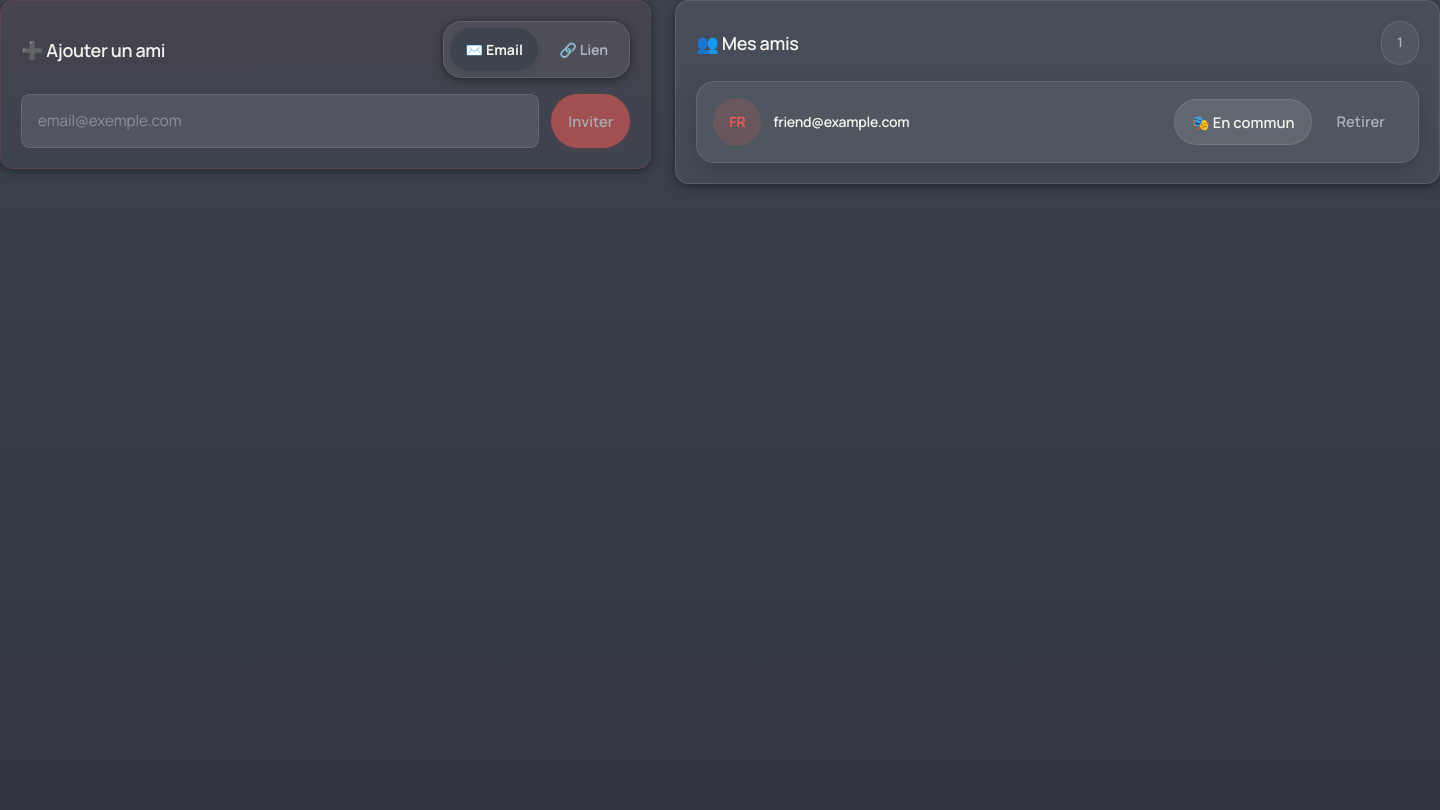
Test: FriendsClient › loads common works inline for a selected friend
Click the button "🎭 En commun" at (1243, 122), box top-left (1174, 99), bottom-right (1312, 145)
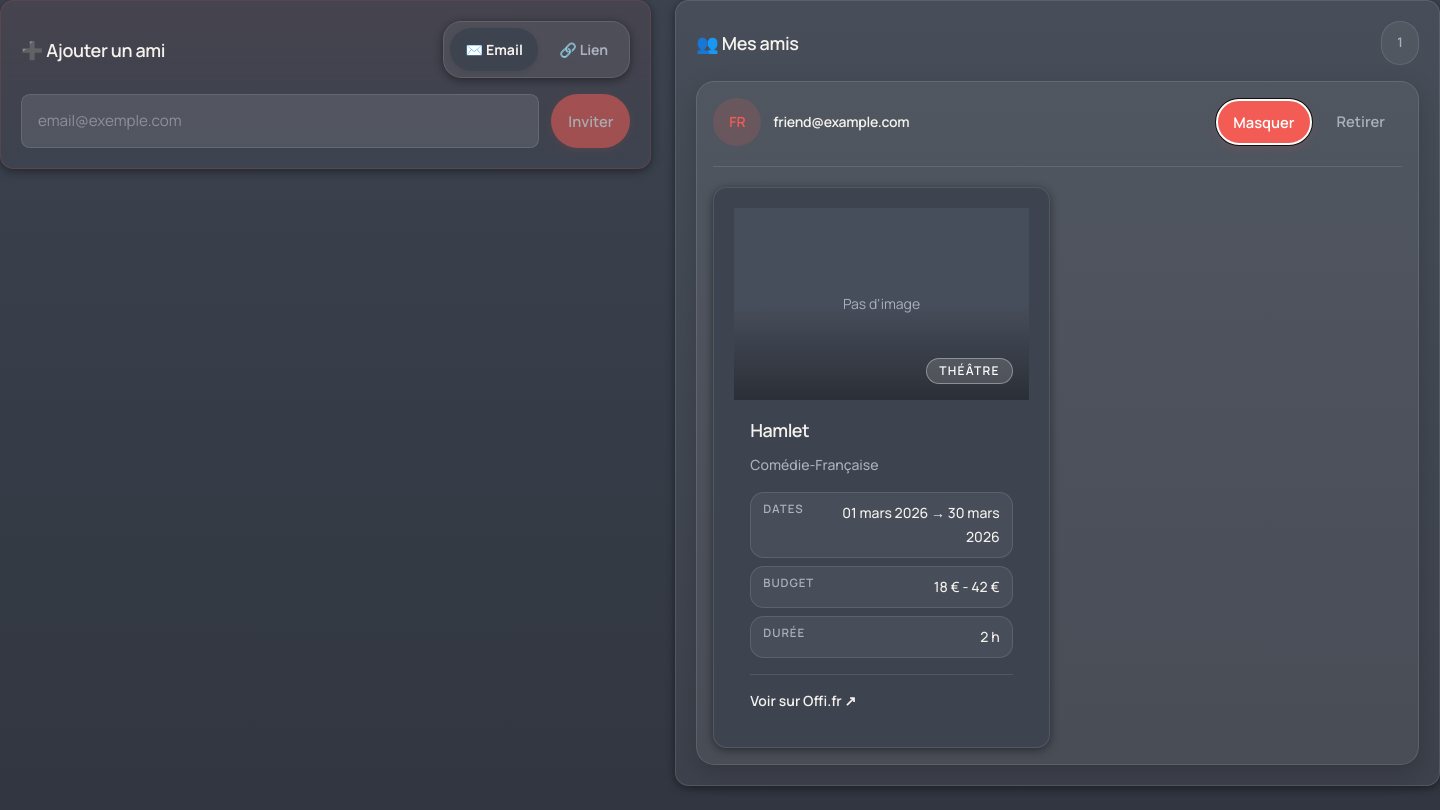
Check: the heading "Hamlet" is shown, box top-left (750, 418), bottom-right (809, 442)
Check: the text "Comédie-Française" is shown, box top-left (750, 455), bottom-right (879, 474)
